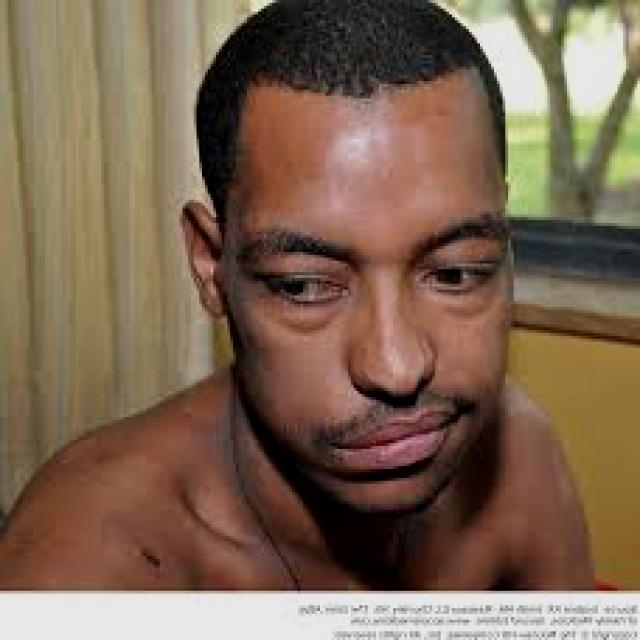stroke_face: (205, 16, 506, 533)
